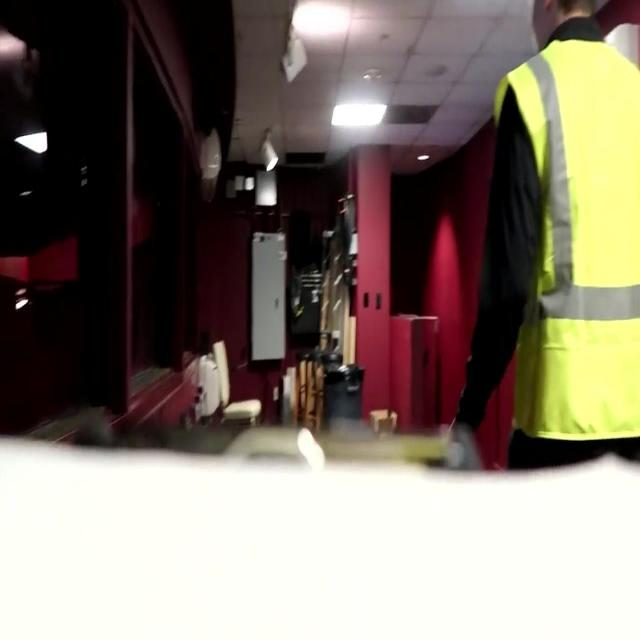Reflective-Jacket: (486, 41, 636, 468)
